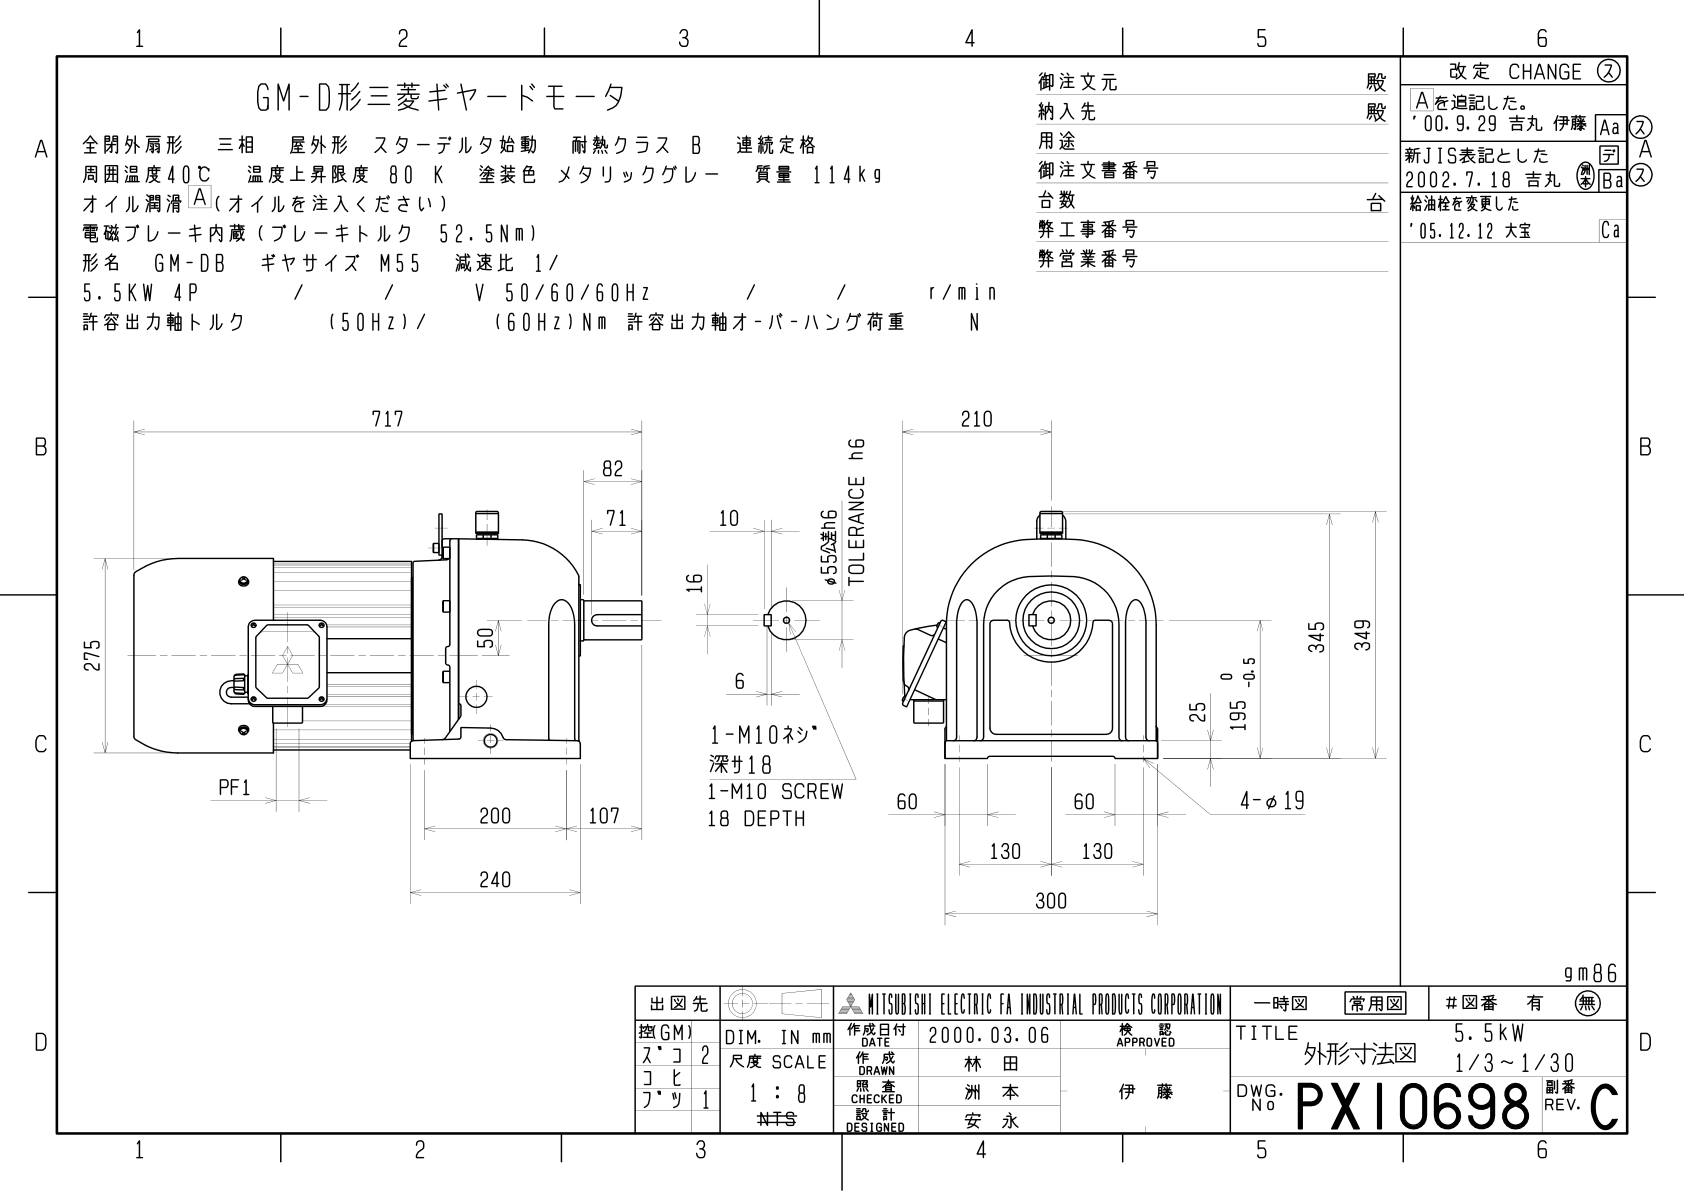GM_D_屋外＿三相_脚: (3, 4, 1684, 1191)
